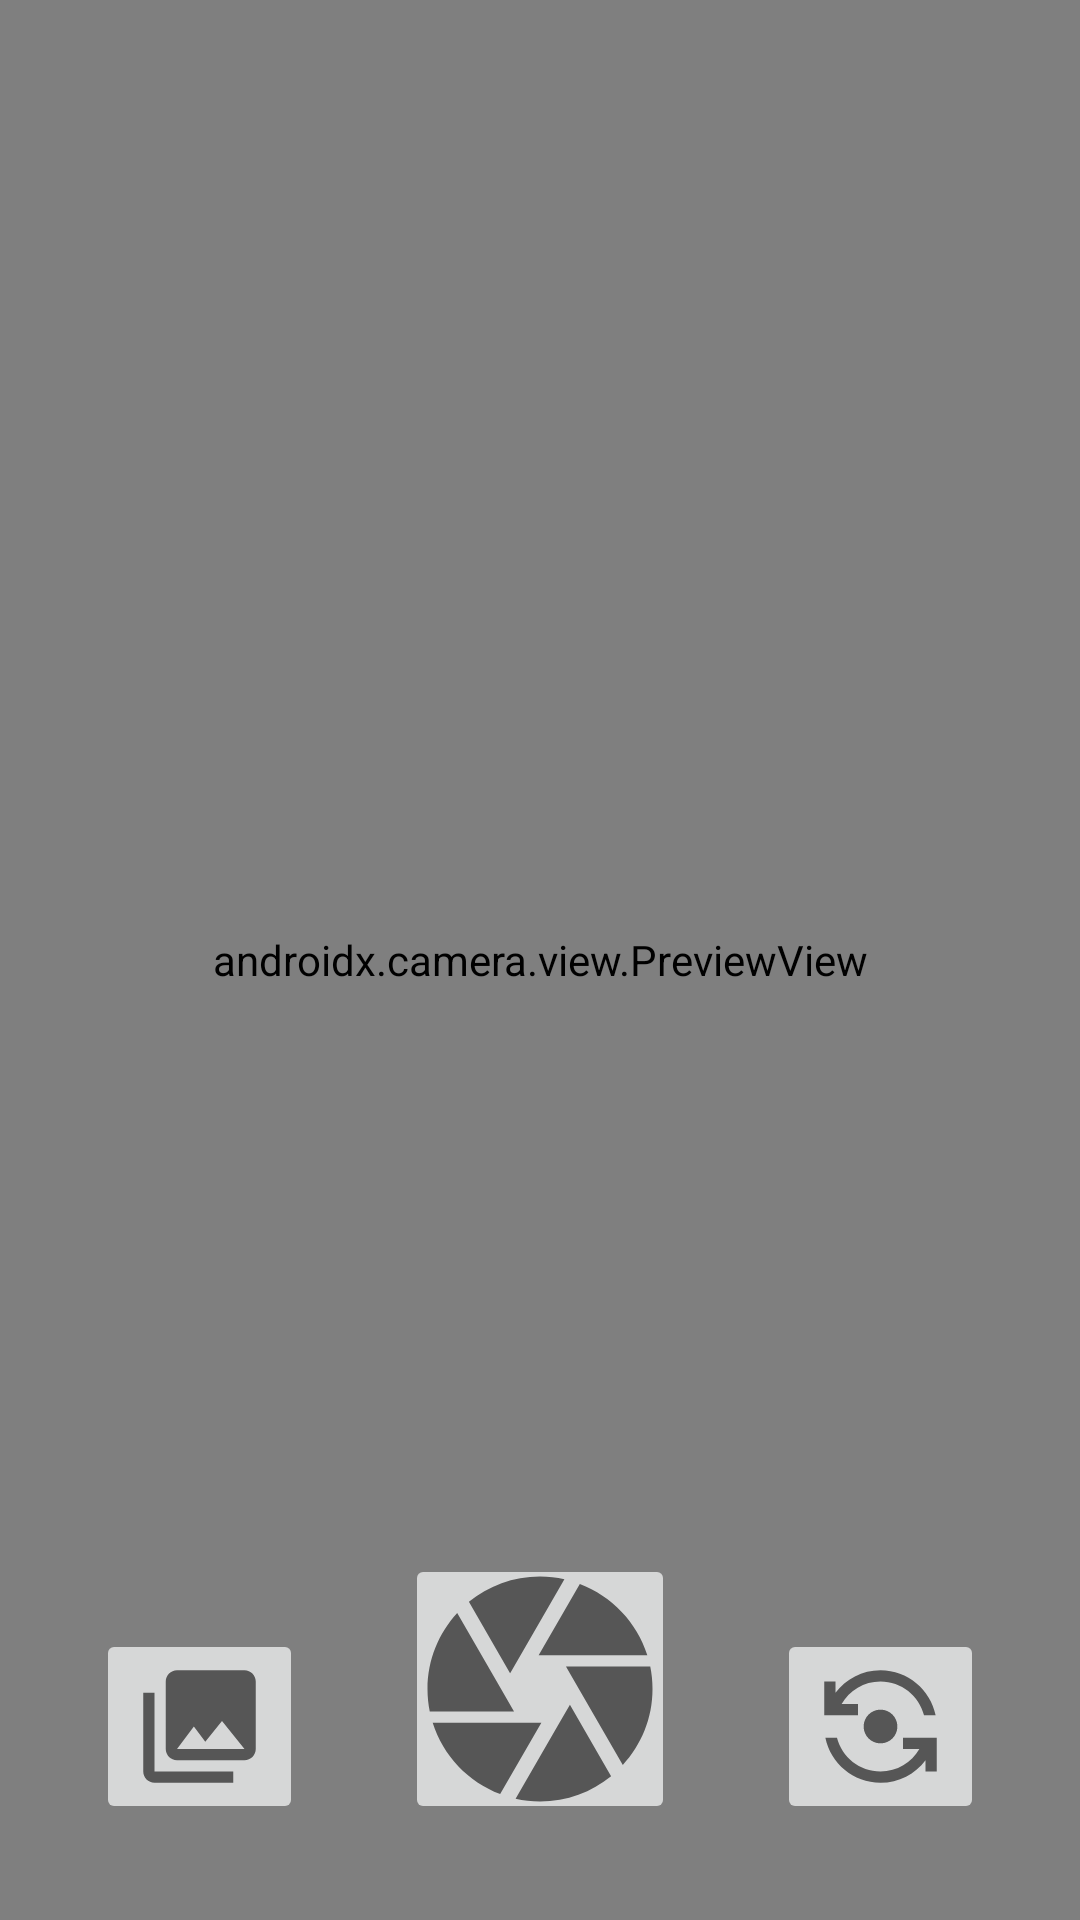

Icons on this 1080 x 1920 Android screen, each with its box as (x1, y1, x2, y2):
camera shutter: (417, 1572, 663, 1806)
flip camera: (789, 1647, 972, 1806)
photo library: (108, 1647, 291, 1806)
